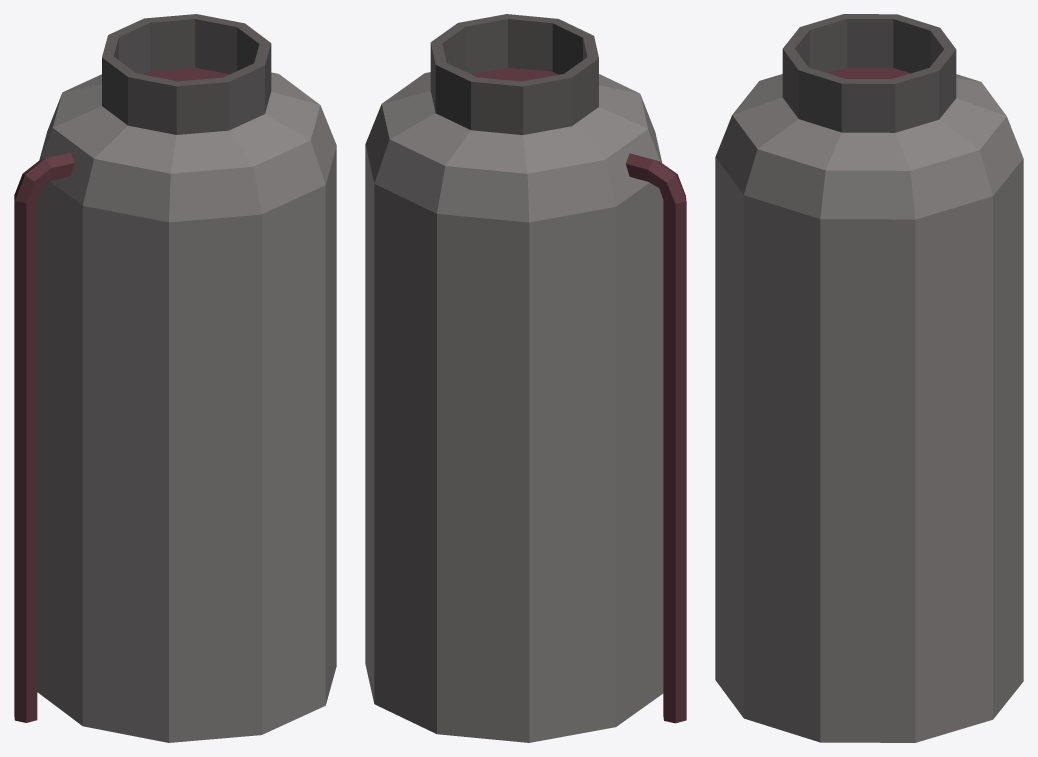
File: silo.fbx
The picture shows the model from 3 angles, left to right: view 1: azimuth 30°, elevation 25°; view 2: azimuth 150°, elevation 25°; view 3: azimuth 270°, elevation 25°; orthographic projection.
Parts seen in each view (by area): view 1: silo; view 2: silo; view 3: silo.
Boxes of the visible parts, box(x1,y1,x2,y2) form: silo: box(14, 14, 336, 742); silo: box(365, 14, 686, 742); silo: box(715, 14, 1023, 742).
Size of the model in its own units: 4.5 by 9.06 by 4.
